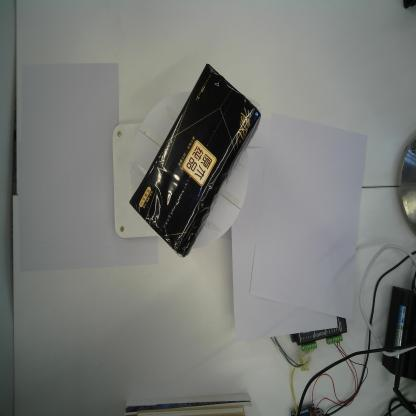Tissue: (128, 61, 261, 258)
